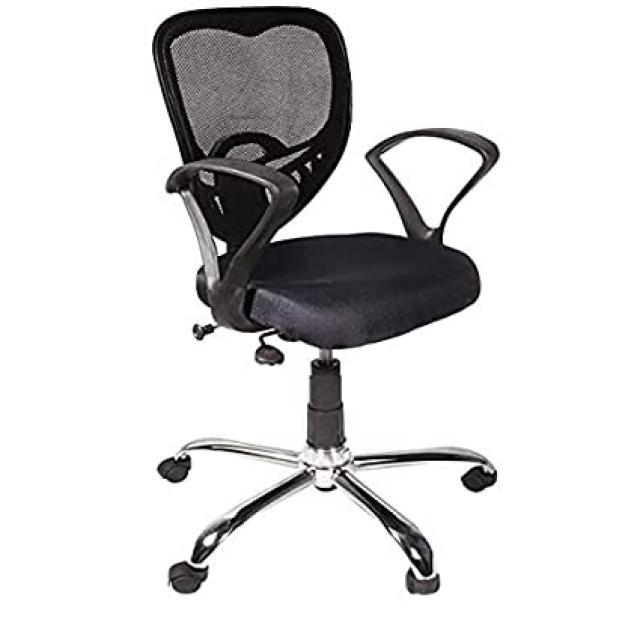chair: (134, 4, 536, 630)
